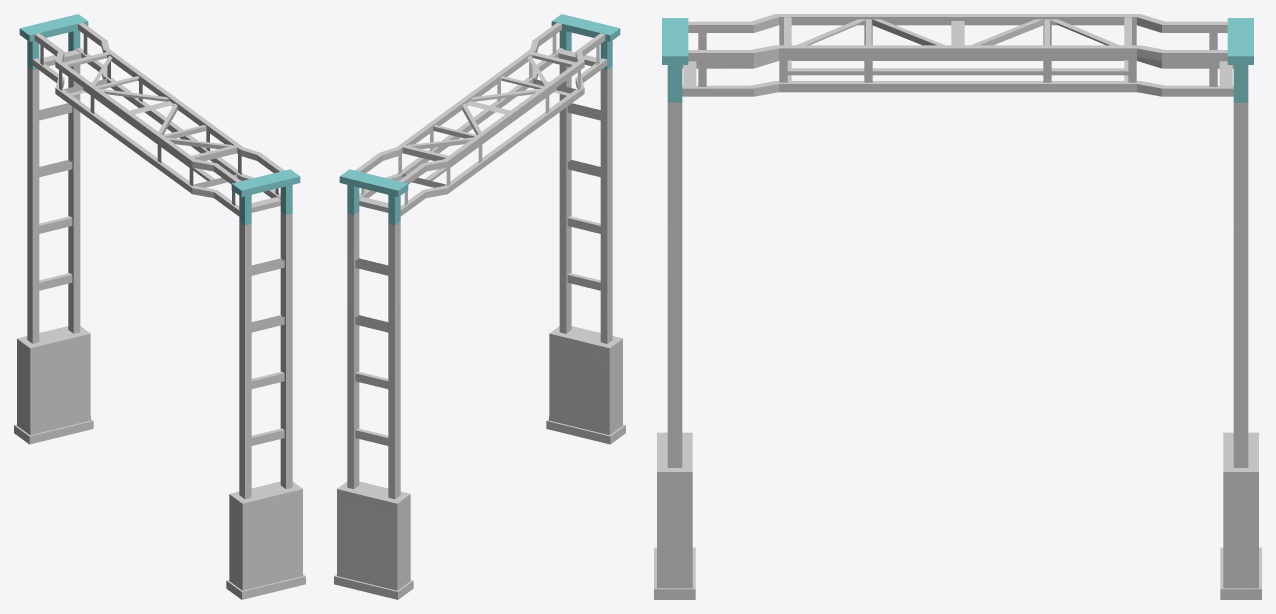
File: SM_H_Industrial_Electrical_SubstationSupport_07_ATLAS.fbx
3 renders of one model, left to right at view 1: azimuth 30°, elevation 25°; view 2: azimuth 150°, elevation 25°; view 3: azimuth 270°, elevation 25°, orthographic. The views are drawn at different scales.
Parts seen in each view (by area): view 1: SM_H_Industrial_Electrical_SubstationSupport_07_ATLAS; view 2: SM_H_Industrial_Electrical_SubstationSupport_07_ATLAS; view 3: SM_H_Industrial_Electrical_SubstationSupport_07_ATLAS.
Boxes of the visible parts, <box> form: SM_H_Industrial_Electrical_SubstationSupport_07_ATLAS: <box>14,14,305,599</box>; SM_H_Industrial_Electrical_SubstationSupport_07_ATLAS: <box>334,14,625,599</box>; SM_H_Industrial_Electrical_SubstationSupport_07_ATLAS: <box>654,14,1261,599</box>.
Bounding box in the file's own units: 188 × 1092 × 1075.
